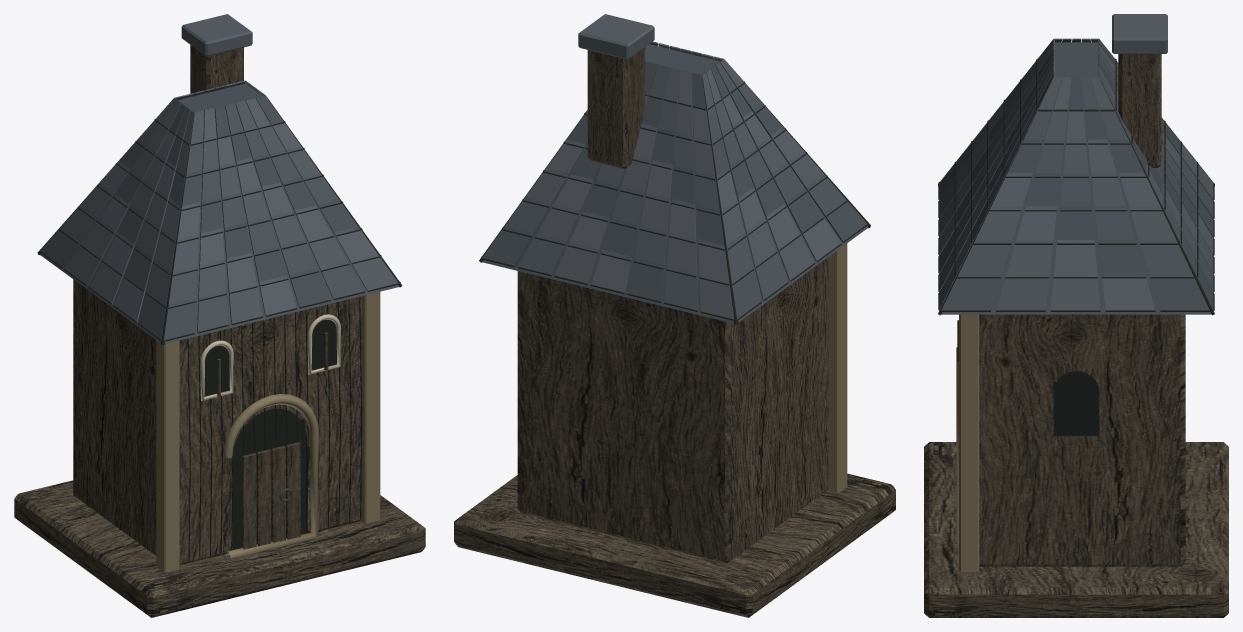
The model's file is MD-07-building.glb.
3 renders of one model, left to right at view 1: azimuth 30°, elevation 25°; view 2: azimuth 150°, elevation 25°; view 3: azimuth 270°, elevation 25°, orthographic. The views are drawn at different scales.
Parts seen in each view (by area): view 1: Building_Wall_body.001, Building_Plank_base.001, Building_Hip_roof.001, Building_Corner_post.002, Building_Corner_post.003, Building_Door_shadow.001, Building_Door_arch.001, Building_Chimney_cap.001, Building_Chimney.001, Building_Door_plank.005, Building_Door_plank.004, Building_Door_plank.007 (+54 smaller); view 2: Building_Wall_body.001, Building_Plank_base.001, Building_Chimney.001, Building_Hip_roof.001, Building_Corner_post.002, Building_Chimney_cap.001, Building_Slate_tile.254, Building_Slate_tile.253, Building_Slate_tile.252, Building_Slate_tile.255, Building_Slate_tile.256, Building_Slate_tile.257 (+39 smaller); view 3: Building_Wall_body.001, Building_Plank_base.001, Building_Hip_roof.001, Building_Corner_post.003, Building_Chimney.001, Building_Side_window.001, Building_Chimney_cap.001, Building_Slate_tile.218, Building_Slate_tile.219, Building_Slate_tile.220, Building_Slate_tile.217, Building_Slate_tile.221 (+27 smaller).
Boxes of the visible parts, box(x1,y1,x2,y2) form: Building_Wall_body.001: box(73, 279, 361, 564); Building_Plank_base.001: box(14, 480, 425, 617); Building_Hip_roof.001: box(40, 83, 399, 344); Building_Corner_post.002: box(156, 340, 179, 573); Building_Corner_post.003: box(360, 292, 380, 524); Building_Door_shadow.001: box(233, 408, 306, 549); Building_Door_arch.001: box(223, 394, 319, 558); Building_Chimney_cap.001: box(181, 14, 252, 56); Building_Chimney.001: box(190, 45, 243, 93); Building_Door_plank.005: box(256, 449, 271, 546); Building_Door_plank.004: box(242, 453, 256, 549); Building_Door_plank.007: box(286, 442, 300, 539); Building_Wall_body.001: box(517, 257, 828, 563); Building_Plank_base.001: box(454, 473, 895, 617); Building_Chimney.001: box(587, 47, 645, 168); Building_Hip_roof.001: box(482, 44, 868, 324); Building_Corner_post.002: box(826, 243, 847, 493); Building_Chimney_cap.001: box(578, 14, 654, 59); Building_Slate_tile.254: box(555, 242, 599, 284); Building_Slate_tile.253: box(518, 234, 567, 275); Building_Slate_tile.252: box(482, 226, 534, 266); Building_Slate_tile.255: box(591, 249, 631, 293); Building_Slate_tile.256: box(628, 258, 664, 301); Building_Slate_tile.257: box(664, 266, 698, 311); Building_Wall_body.001: box(979, 314, 1185, 566); Building_Plank_base.001: box(924, 442, 1228, 617); Building_Hip_roof.001: box(939, 42, 1213, 314); Building_Corner_post.003: box(959, 314, 979, 572); Building_Chimney.001: box(1118, 54, 1161, 167); Building_Side_window.001: box(1053, 371, 1099, 436); Building_Chimney_cap.001: box(1112, 14, 1167, 53); Building_Slate_tile.218: box(996, 273, 1049, 310); Building_Slate_tile.219: box(1051, 273, 1100, 310); Building_Slate_tile.220: box(1102, 273, 1154, 310); Building_Slate_tile.217: box(941, 273, 1001, 310); Building_Slate_tile.221: box(1150, 273, 1209, 310).
Bounding box in the file's own units: 0.14 × 0.2315 × 0.12.
9 materials, 1 textured.
